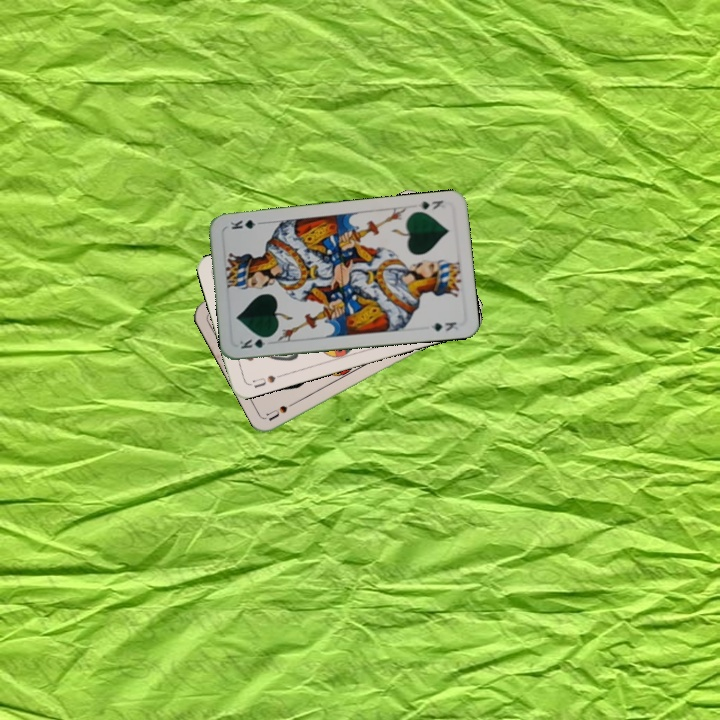GK: (236, 332, 274, 351), (414, 196, 446, 212)
SU: (263, 396, 302, 423), (249, 370, 285, 391)
